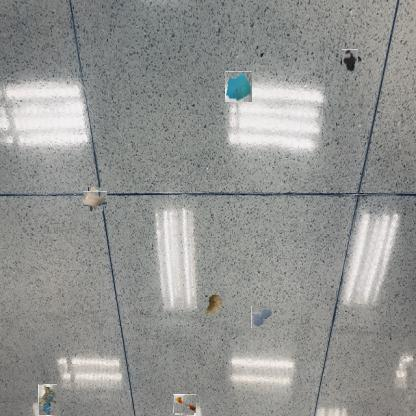dirty: (224, 71, 252, 102), (38, 384, 57, 416), (202, 291, 226, 315), (174, 393, 195, 414), (86, 189, 105, 209)
liquid: (251, 306, 272, 328), (341, 51, 360, 71)
